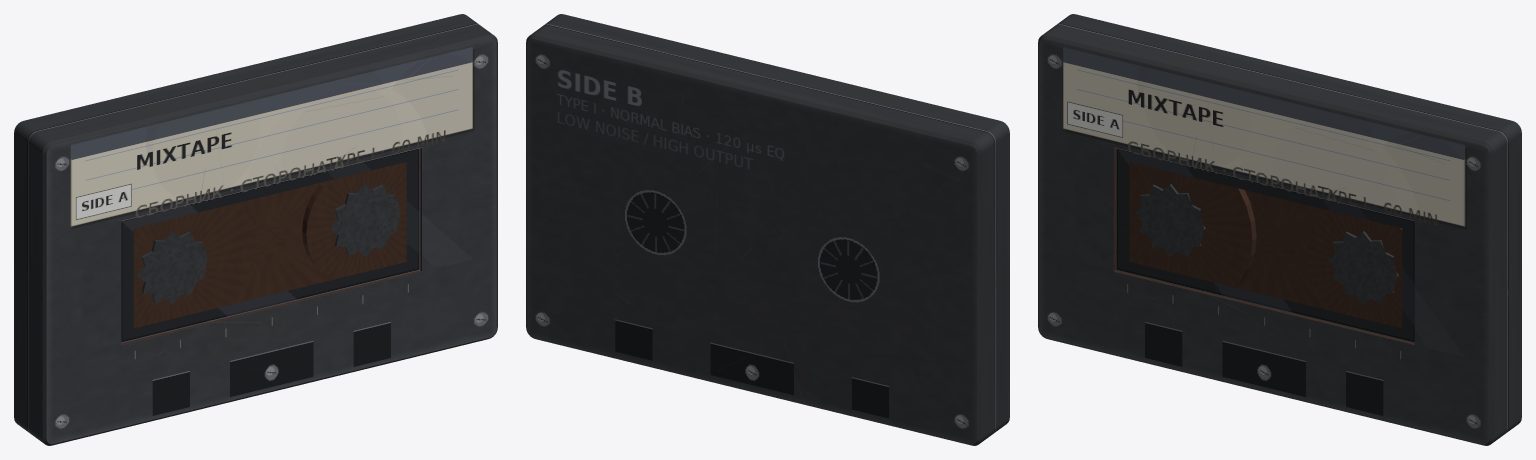
The model's file is mr_cassette.obj.
The picture shows the model from 3 angles, left to right: view 1: azimuth 30°, elevation 25°; view 2: azimuth 150°, elevation 25°; view 3: azimuth 330°, elevation 25°; orthographic projection.
Parts seen in each view (by area): view 1: shell, label, window, tape_left, cavity, tape_right, hub_left, hub_right; view 2: shell; view 3: shell, label, window, tape_left, cavity, tape_right, hub_right, hub_left.
Part boxes in pixels (x1,y1,x2,y2): shell: [14, 14, 497, 445]; label: [72, 47, 472, 226]; window: [121, 148, 420, 343]; tape_left: [133, 203, 252, 328]; cavity: [121, 147, 421, 344]; tape_right: [302, 163, 406, 279]; hub_left: [137, 231, 207, 304]; hub_right: [330, 184, 400, 256]; shell: [526, 14, 1009, 445]; shell: [1038, 14, 1521, 445]; label: [1063, 47, 1463, 226]; window: [1115, 148, 1414, 343]; tape_left: [1129, 162, 1256, 287]; cavity: [1114, 147, 1414, 344]; tape_right: [1306, 210, 1402, 326]; hub_right: [1328, 231, 1398, 304]; hub_left: [1135, 184, 1205, 256].
Size of the model in its own units: 0.1 by 0.0638 by 0.0122.
Materials: 2 (2 with a texture image).
